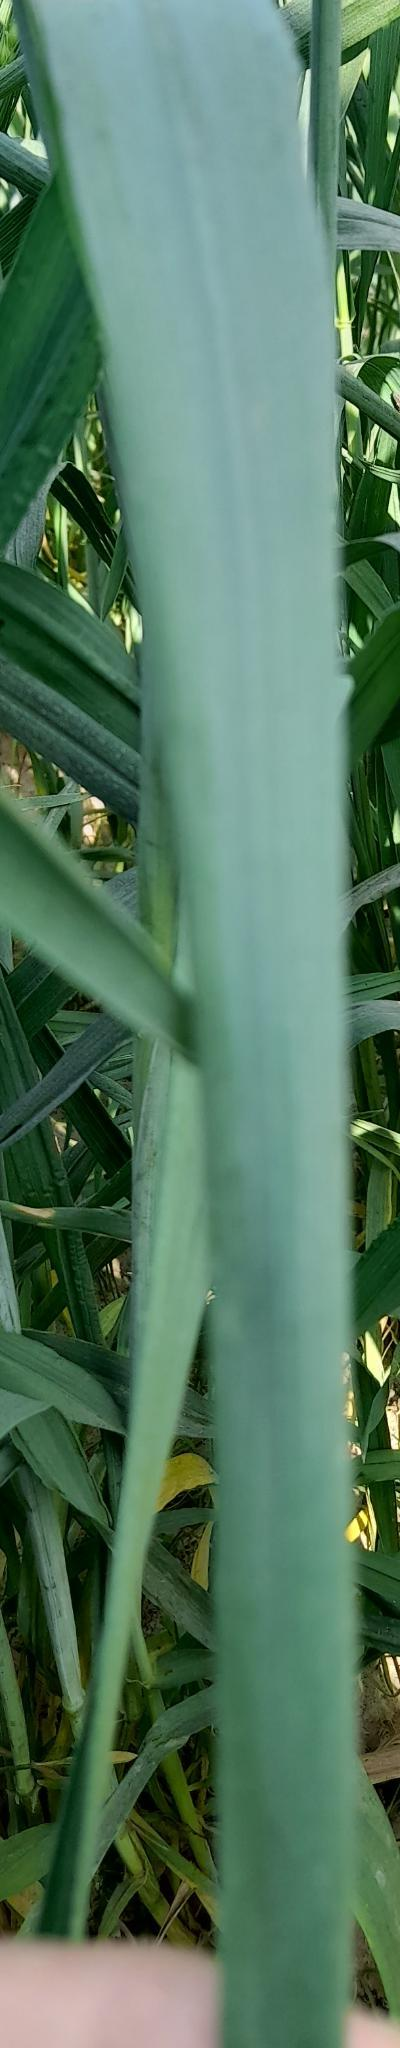Wheat: (224, 808, 348, 1327), (220, 1399, 329, 1976), (135, 20, 280, 351), (190, 404, 328, 748)
